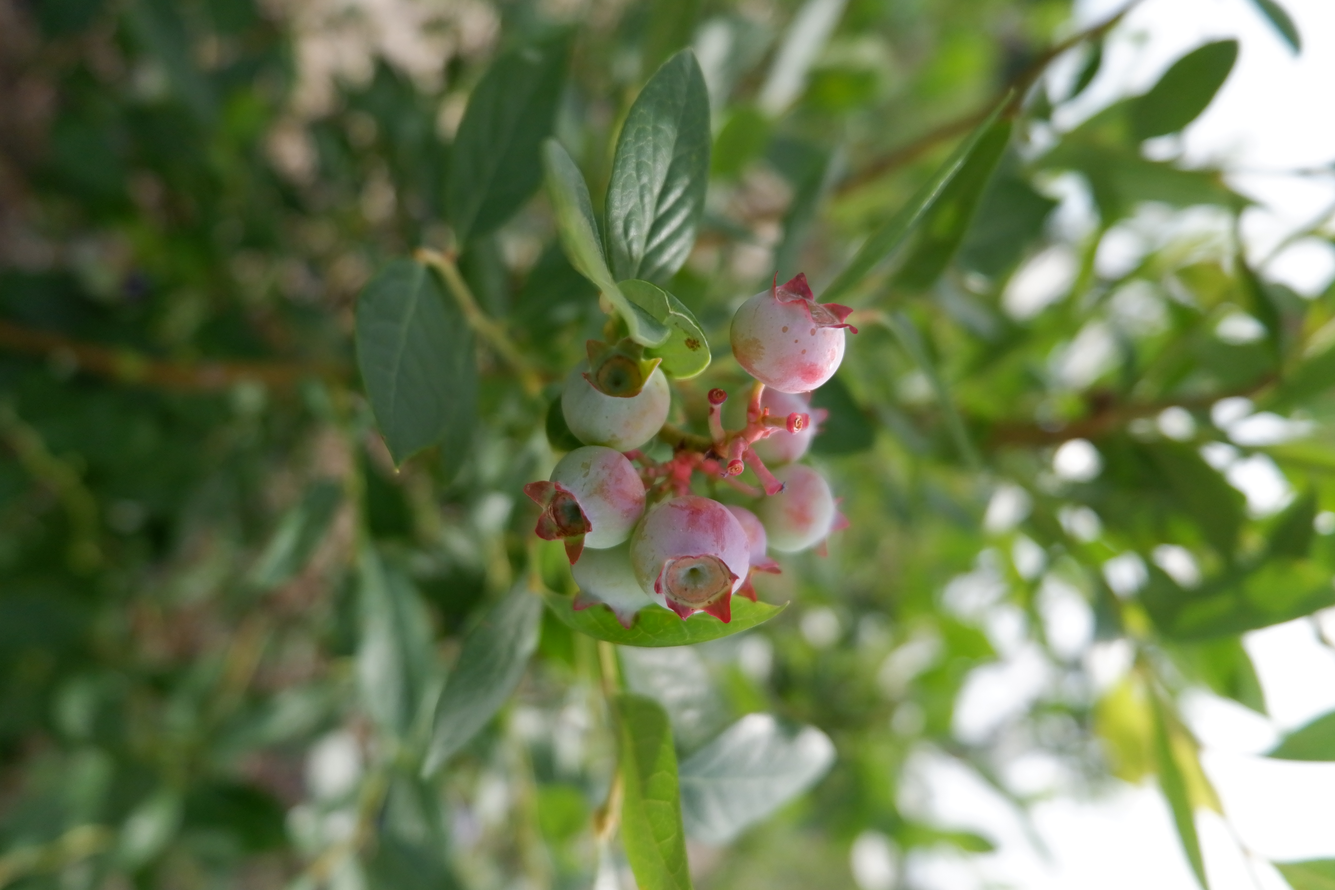Immature: (633, 498, 750, 625), (733, 276, 852, 392), (535, 450, 643, 568), (565, 344, 669, 448), (719, 384, 825, 463), (754, 464, 846, 552), (572, 540, 648, 624), (724, 503, 783, 602)
